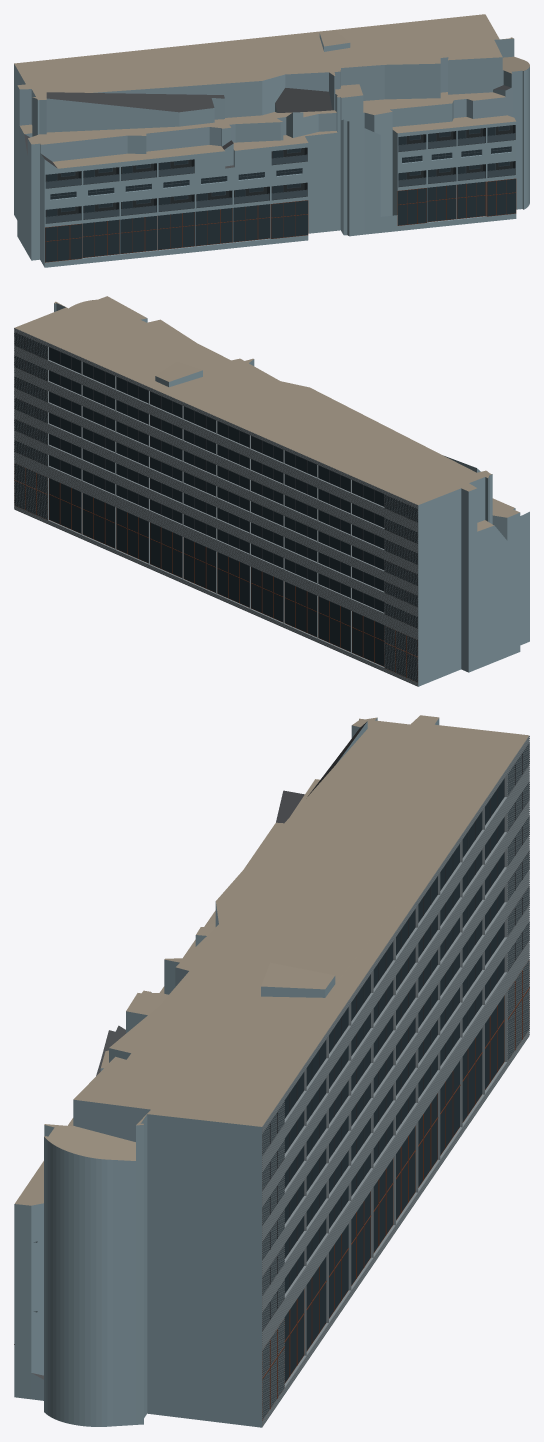
File: recipe-large-veemkade-1106-068169.glb
The picture shows the model from 3 angles, top to bottom: view 1: azimuth 30°, elevation 25°; view 2: azimuth 150°, elevation 25°; view 3: azimuth 270°, elevation 25°; orthographic projection. The views are drawn at different scales.
Parts seen in each view (by area): view 1: veemkade-1106-068169; view 2: veemkade-1106-068169; view 3: veemkade-1106-068169.
Boxes of the visible parts, bbox=[...] form: veemkade-1106-068169: bbox=[14, 14, 529, 267]; veemkade-1106-068169: bbox=[14, 296, 529, 686]; veemkade-1106-068169: bbox=[14, 715, 529, 1427].
Bounding box in the file's own units: 71.1 × 24.25 × 36.52.
